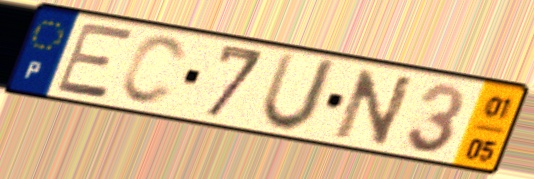3: (405, 82, 469, 156)
7: (205, 41, 268, 121)
C: (117, 33, 189, 109)
E: (52, 21, 136, 101)
N: (331, 66, 419, 149)
U: (256, 49, 342, 136)
